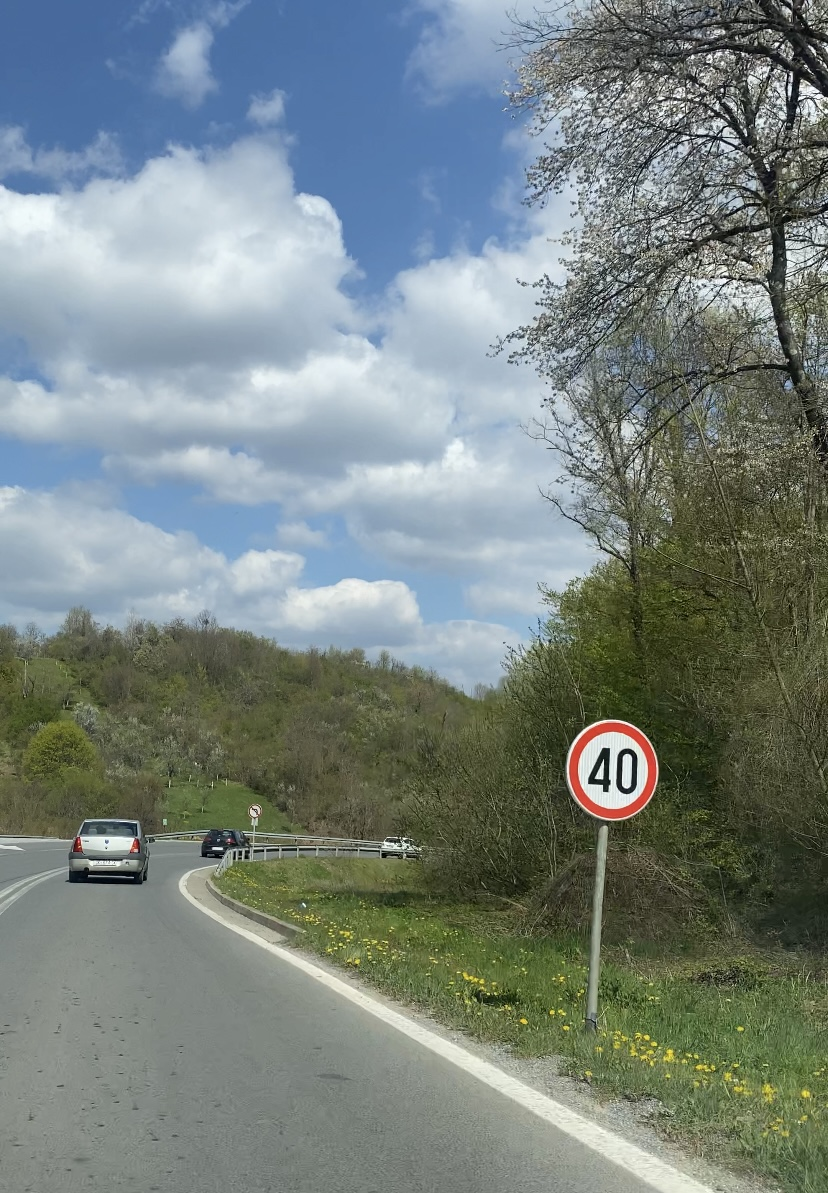Ograničenje brzine 40: (565, 719, 659, 821)
